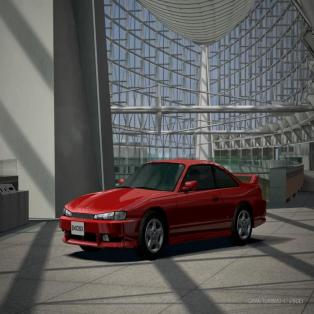Auto: (59, 157, 263, 256)
